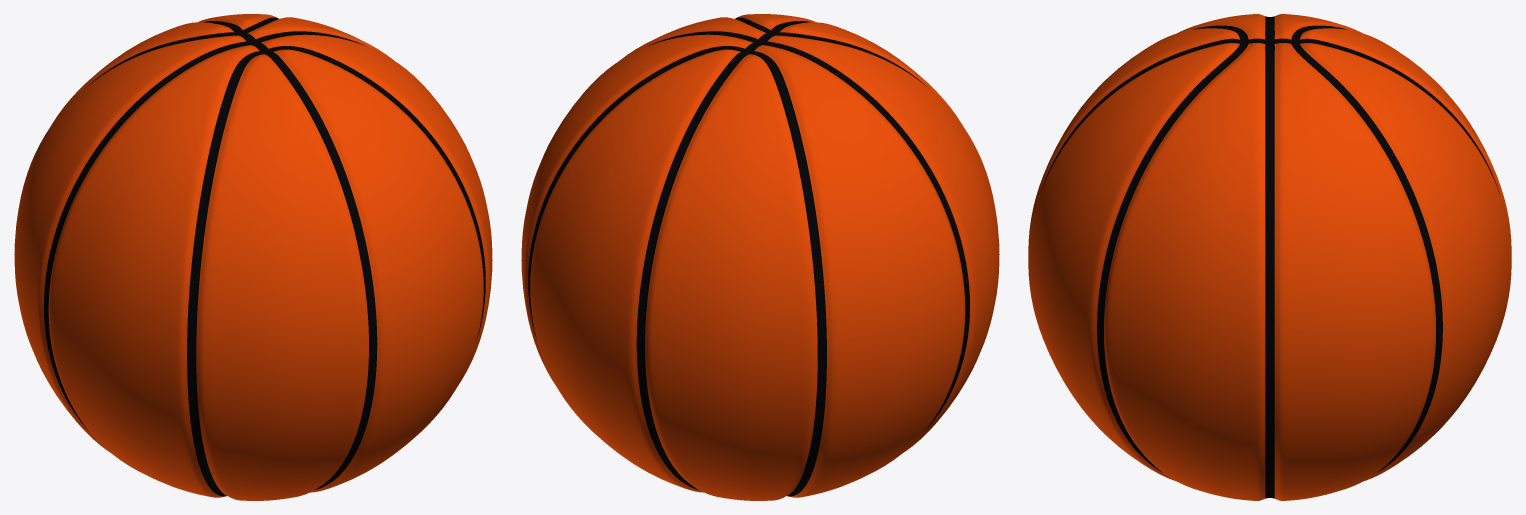
The model's file is basketball.glb.
The picture shows the model from 3 angles, left to right: view 1: azimuth 30°, elevation 25°; view 2: azimuth 150°, elevation 25°; view 3: azimuth 270°, elevation 25°; orthographic projection.
Visible parts, largest first — view 1: Sphere.001; view 2: Sphere.001; view 3: Sphere.001.
Part boxes in pixels (left/top/right/bottom): Sphere.001: left=14, top=14, right=492, bottom=500; Sphere.001: left=521, top=14, right=999, bottom=500; Sphere.001: left=1028, top=14, right=1511, bottom=500.
Size of the model in its own units: 1.97 by 1.97 by 1.97.
